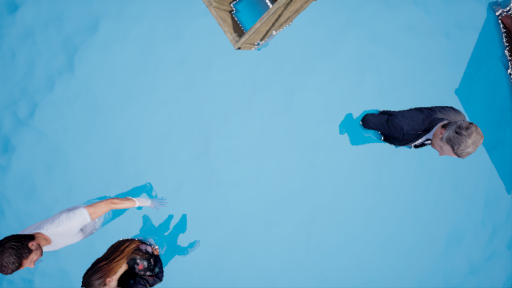person: (2, 187, 182, 288), (337, 100, 483, 168)
